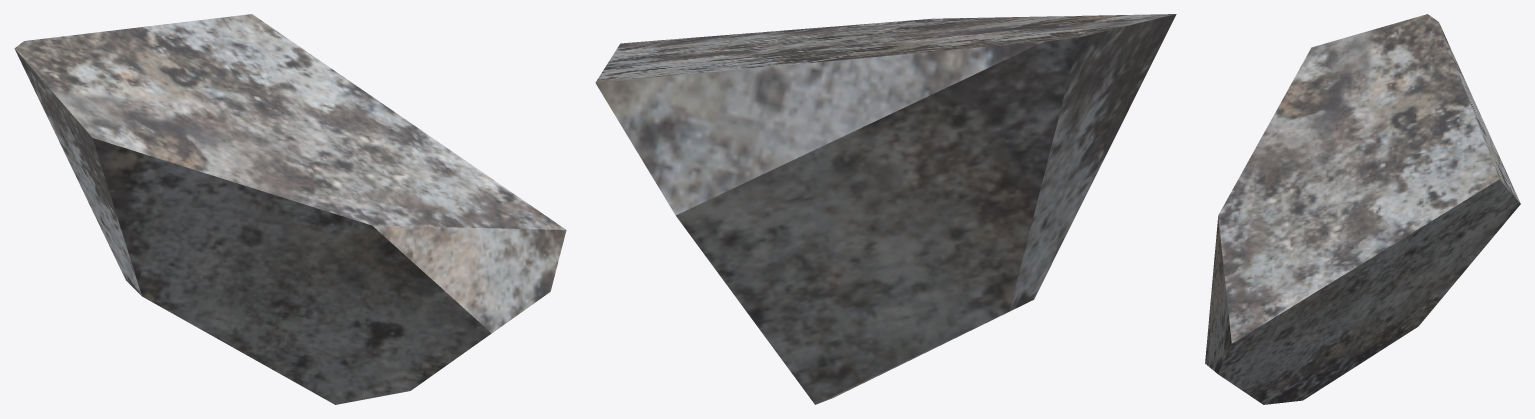
The model's file is Asteroid_Large_001_02_012_03_005.fbx.
3 views of the same model, side by side, from view 1: azimuth 30°, elevation 25°; view 2: azimuth 150°, elevation 25°; view 3: azimuth 270°, elevation 25° (orthographic). The views are drawn at different scales.
Visible parts, largest first — view 1: Asteroid_Large_001_02_012_03_005; view 2: Asteroid_Large_001_02_012_03_005; view 3: Asteroid_Large_001_02_012_03_005.
Part boxes in pixels (x1,y1,x2,y2): Asteroid_Large_001_02_012_03_005: (14,14,566,404); Asteroid_Large_001_02_012_03_005: (595,14,1176,404); Asteroid_Large_001_02_012_03_005: (1205,14,1520,404).
Size of the model in its own units: 8.4 by 6.7 by 6.6.
